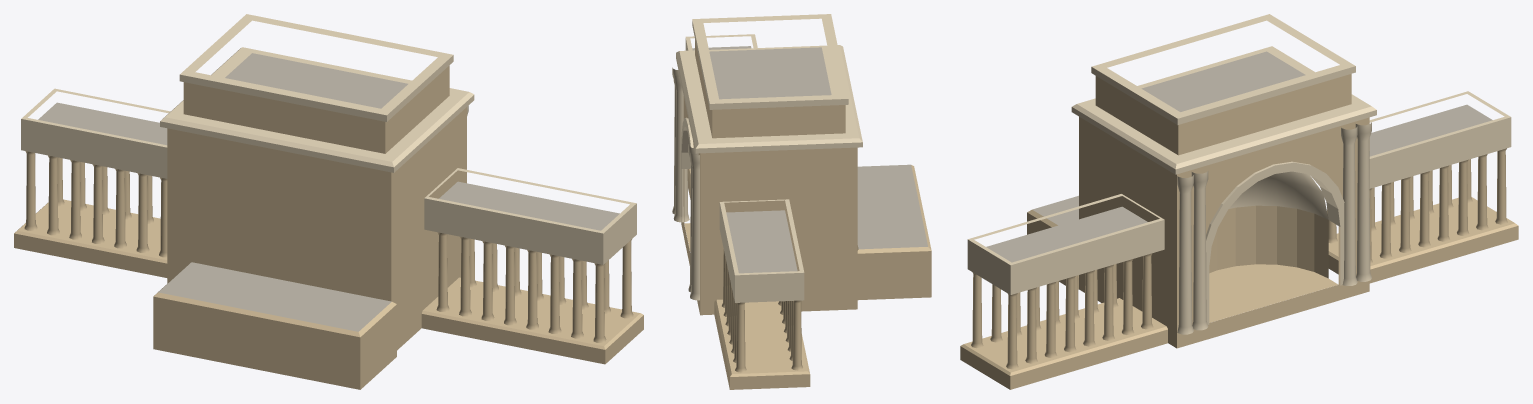
3 renders of one model, left to right at view 1: azimuth 30°, elevation 25°; view 2: azimuth 150°, elevation 25°; view 3: azimuth 270°, elevation 25°, orthographic. The views are drawn at different scales.
Visible parts, largest first — view 1: spreckels-temple-of-music; view 2: spreckels-temple-of-music; view 3: spreckels-temple-of-music.
Boxes of the visible parts, x1=… form: spreckels-temple-of-music: x1=14, y1=14, x2=643, y2=389; spreckels-temple-of-music: x1=672, y1=14, x2=931, y2=389; spreckels-temple-of-music: x1=960, y1=14, x2=1518, y2=389.
Size of the model in its own units: 36.35 by 21 by 47.5.
